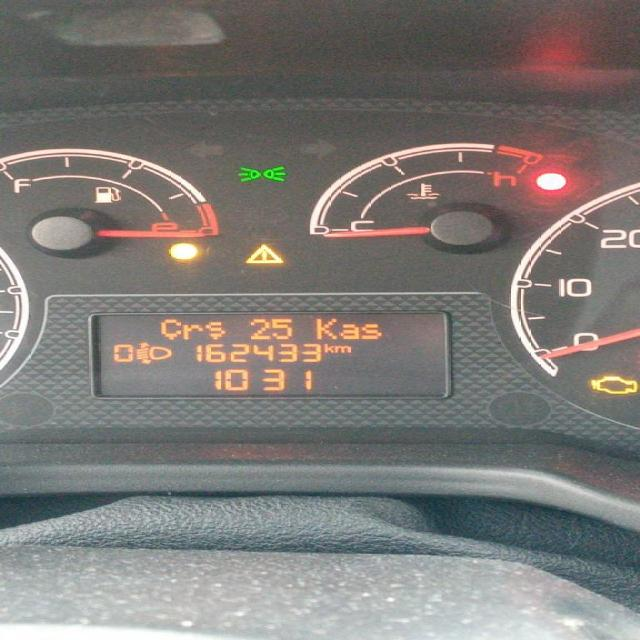odometer: (88, 310, 451, 401)
